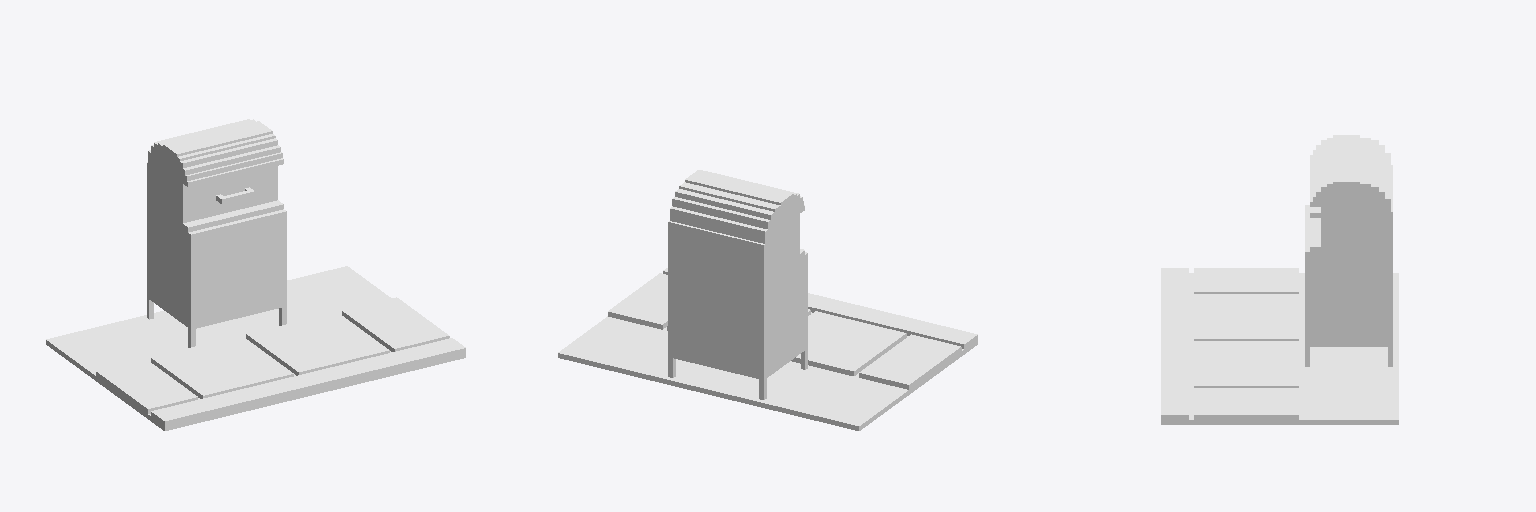
File: mailbox.obj
3 views of the same model, side by side, from view 1: azimuth 30°, elevation 25°; view 2: azimuth 150°, elevation 25°; view 3: azimuth 270°, elevation 25° (orthographic).
Size of the model in its own units: 126 by 76 by 86.